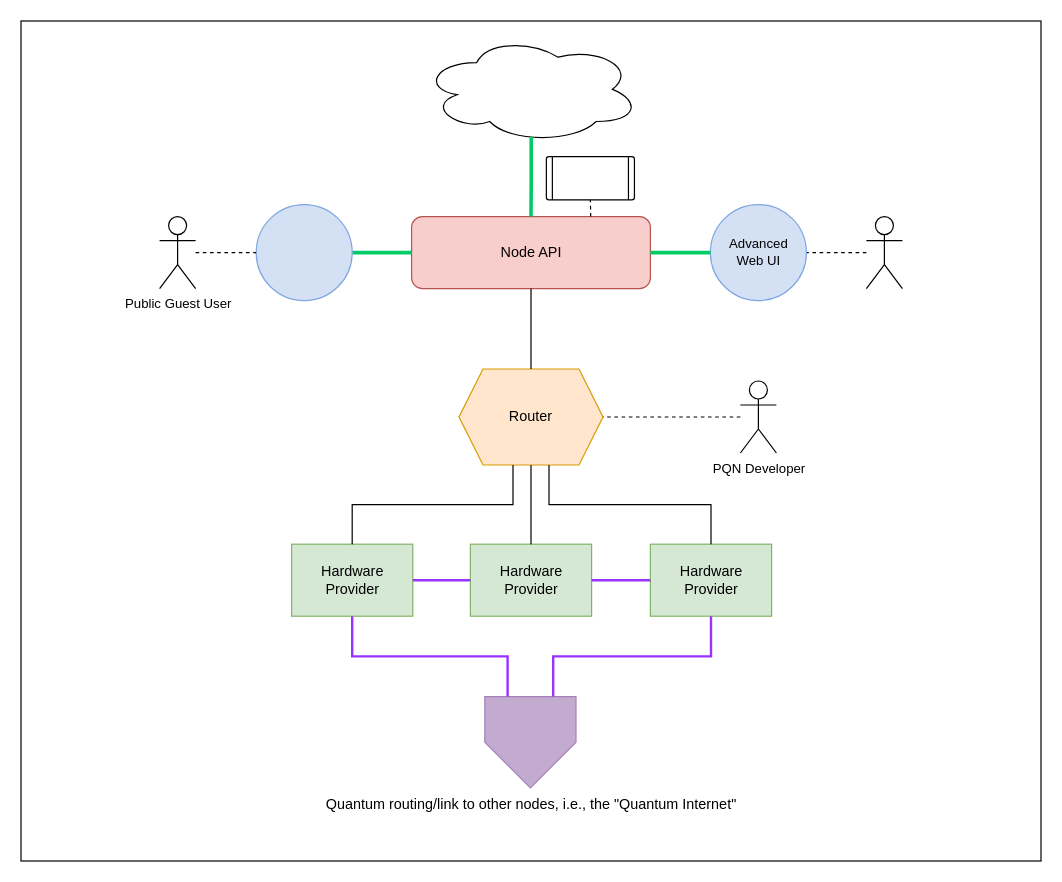
Some shapes in this 1062 by 882 pixel diagram are drawn without their labels. Here are the shapes that lost their labels. From the top down, the centre of each, then its label:
At point 530,89: "Classical Internet".
At point 589,177: "Custom Protocols".
At point 303,252: "Lightweight Web UI".
At point 883,252: "Researcher".
